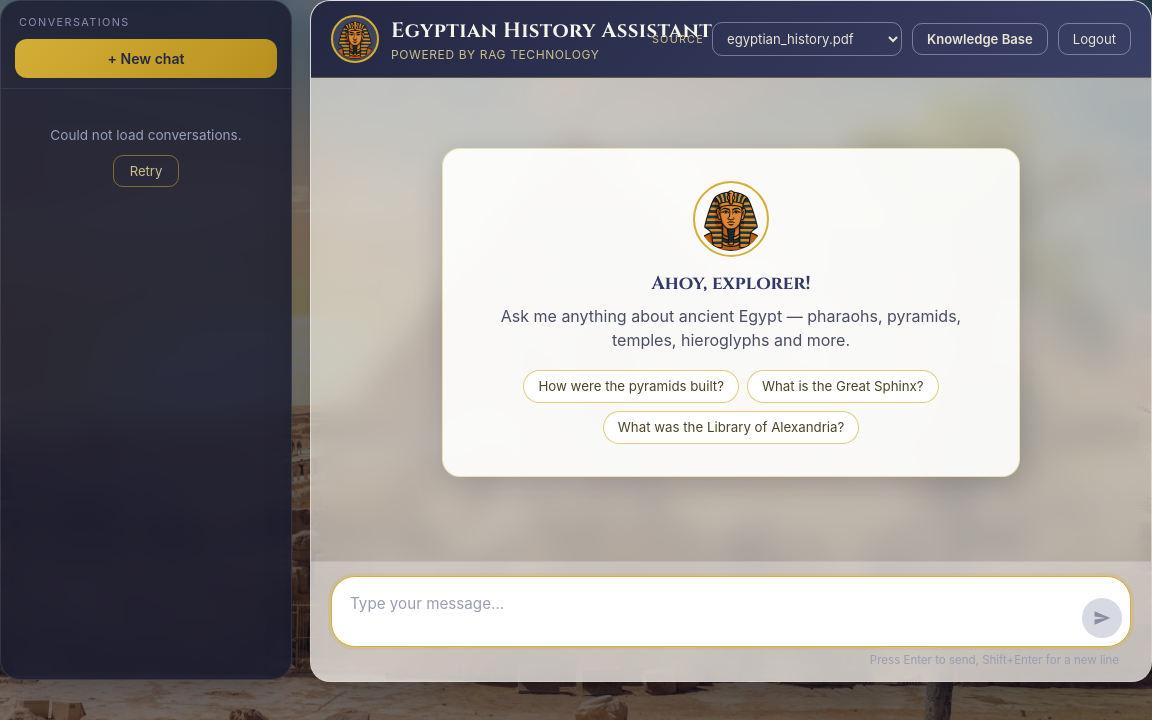
Test case: ChatInterface › shows a retryable sidebar error when the conversation list fails
This screenshot has width=1152, height=720.
expect the text "Could not load conversations." is shown: met, box [50,127,242,143]
Click the button "Retry".
click(146, 171)  # box [113,155,179,187]
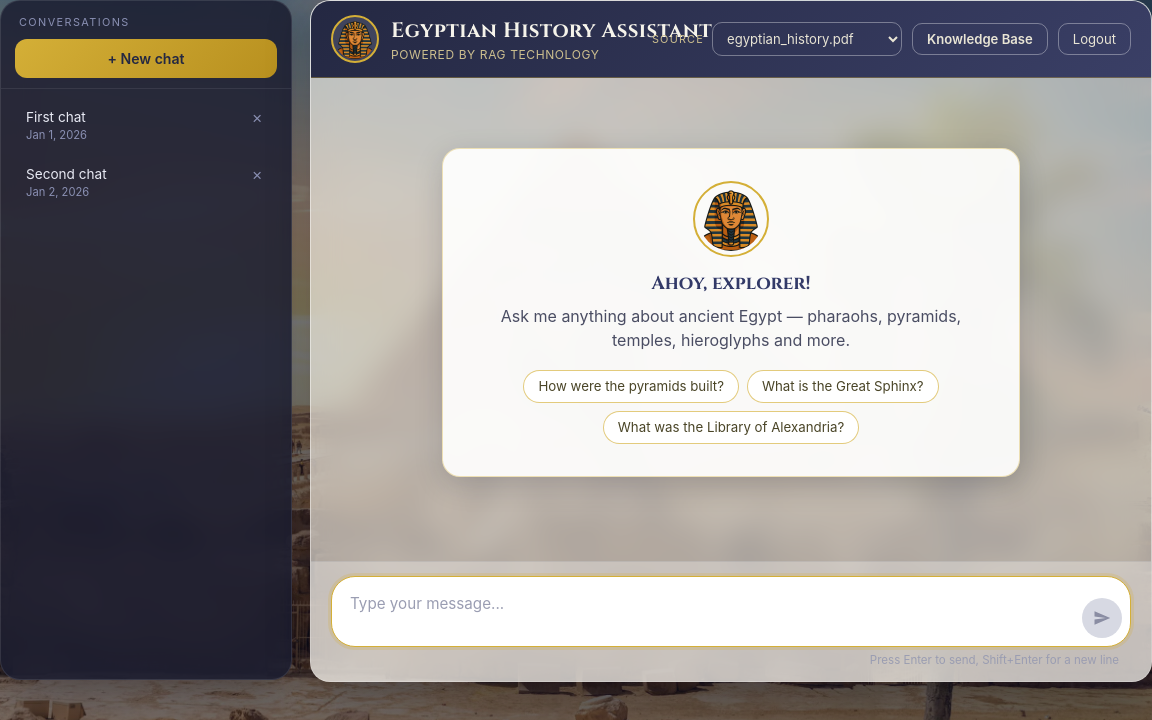
expect the text "First chat" is shown: met
expect the text "Could not load conversations." is gone: met
Click the text "First chat".
click(56, 117)  # box [26,109,87,125]
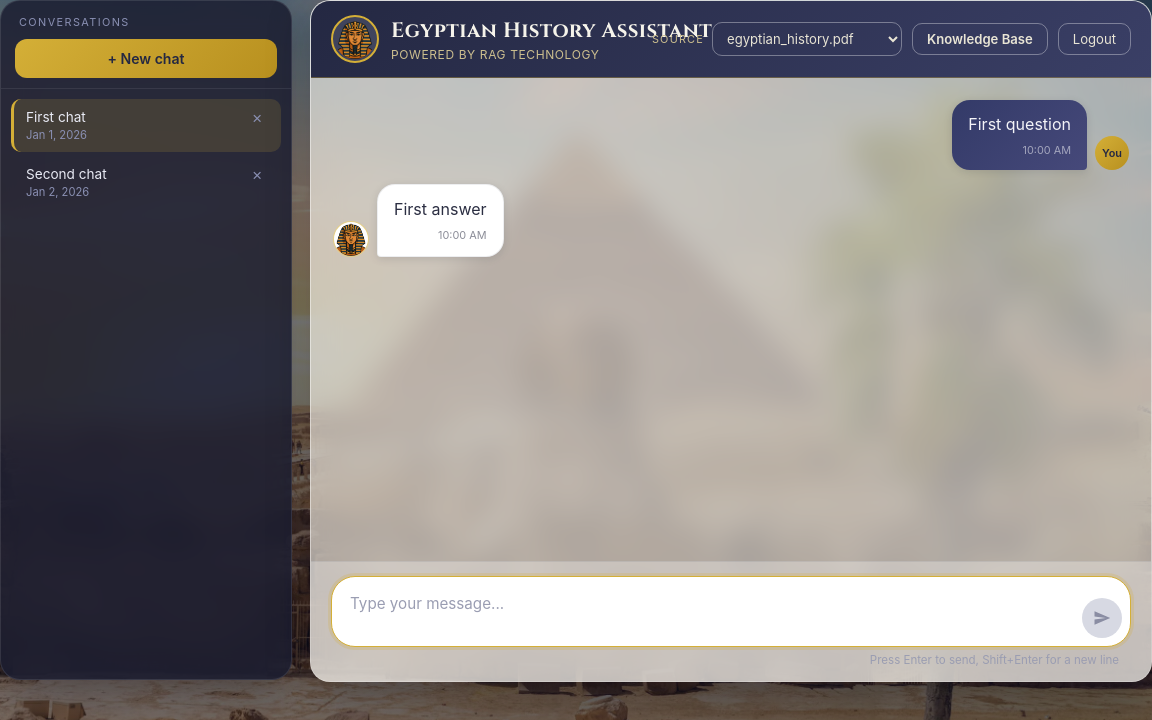
expect the text "First question" is shown: met, box [968,112,1071,136]
